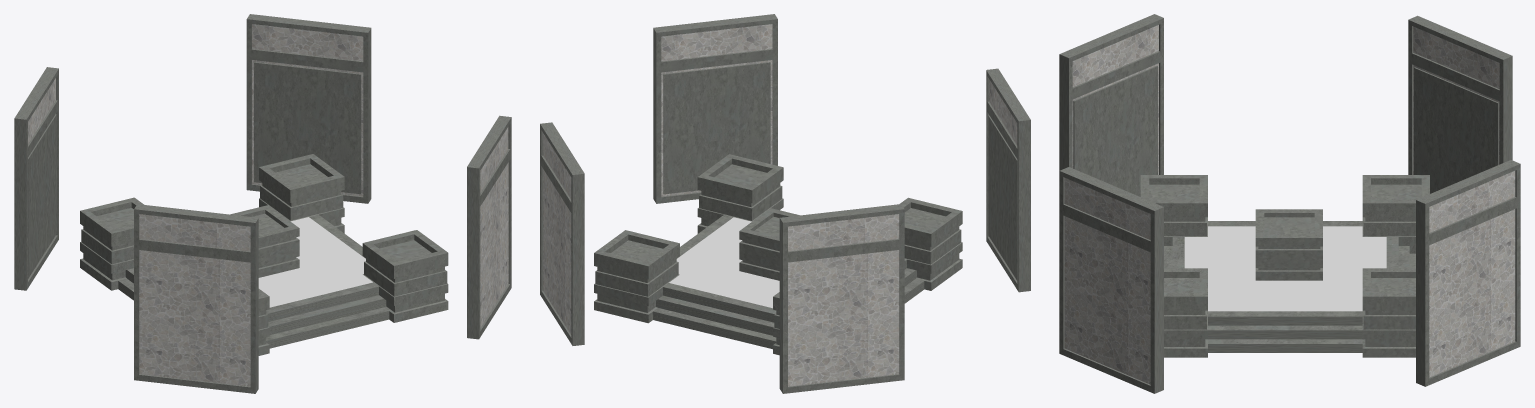
The model's file is Shrine.fbx.
3 views of the same model, side by side, from view 1: azimuth 30°, elevation 25°; view 2: azimuth 150°, elevation 25°; view 3: azimuth 270°, elevation 25° (orthographic). The views are drawn at different scales.
Parts seen in each view (by area): view 1: Cube.032, Cube.042, Cube.004, Cube.038, Cube.026, Cube.043, Cube.005, Cube.044, Cube.046, Cube.045; view 2: Cube.038, Cube.026, Cube.004, Cube.032, Cube.042, Cube.005, Cube.043, Cube.045, Cube.046; view 3: Cube.042, Cube.026, Cube.004, Cube.032, Cube.038, Cube.046, Cube.005, Cube.043, Cube.044, Cube.045.
Boxes of the visible parts, x1,y1,x2,y2 form: Cube.032: (134, 204, 258, 393); Cube.042: (246, 14, 371, 203); Cube.004: (118, 214, 389, 348); Cube.038: (14, 67, 58, 290); Cube.026: (467, 115, 511, 339); Cube.043: (362, 230, 448, 322); Cube.005: (259, 154, 344, 233); Cube.044: (80, 197, 144, 290); Cube.046: (230, 205, 299, 277); Cube.045: (258, 289, 269, 355); Cube.038: (779, 204, 904, 393); Cube.026: (653, 14, 777, 203); Cube.004: (653, 215, 924, 349); Cube.032: (986, 68, 1030, 292); Cube.042: (540, 122, 584, 345); Cube.005: (594, 230, 679, 323); Cube.043: (697, 154, 783, 233); Cube.045: (899, 197, 962, 290); Cube.046: (739, 208, 799, 280); Cube.042: (1416, 160, 1520, 386); Cube.026: (1059, 167, 1163, 393); Cube.004: (1164, 221, 1415, 352); Cube.032: (1059, 14, 1163, 196); Cube.038: (1408, 15, 1512, 193); Cube.046: (1255, 209, 1322, 280); Cube.005: (1362, 268, 1415, 357); Cube.043: (1164, 268, 1207, 357); Cube.044: (1362, 175, 1429, 255); Cube.045: (1140, 175, 1207, 245).
Bounding box in the file's own units: 1386 × 600 × 1371.
3 materials, 2 textured.
